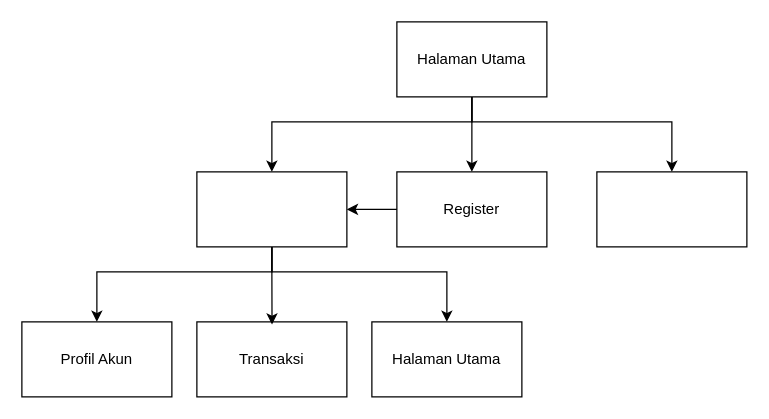
This 769x419 diagram has some shape labels left out. The shapes that lost their labels are listed below. From the top down, each one's centre as x and y in pixels, then its label:
At (x=271, y=209): "Login".
At (x=671, y=209): "Katalog Kopi".
